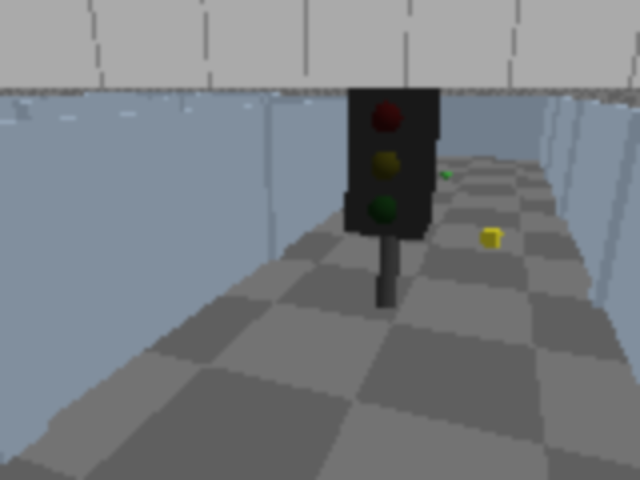puck: (481, 228, 503, 249)
traffic_light: (344, 74, 443, 326)
